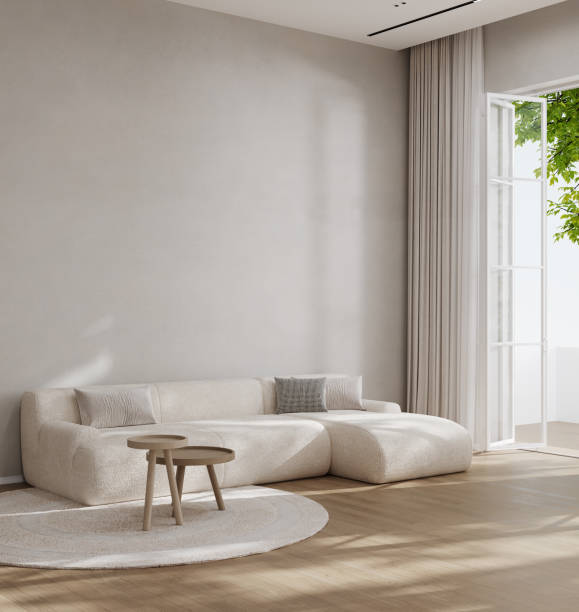sofa: (18, 369, 479, 512)
table: (124, 428, 237, 531)
